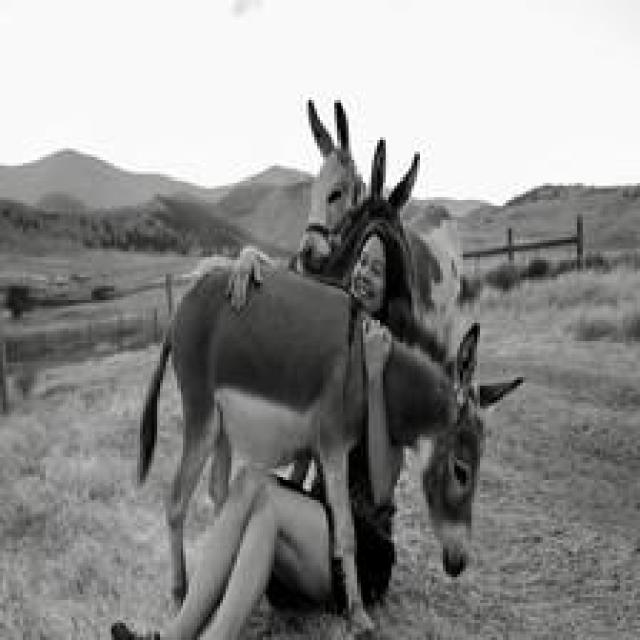Donkey: (80, 254, 526, 629), (134, 134, 440, 629)
